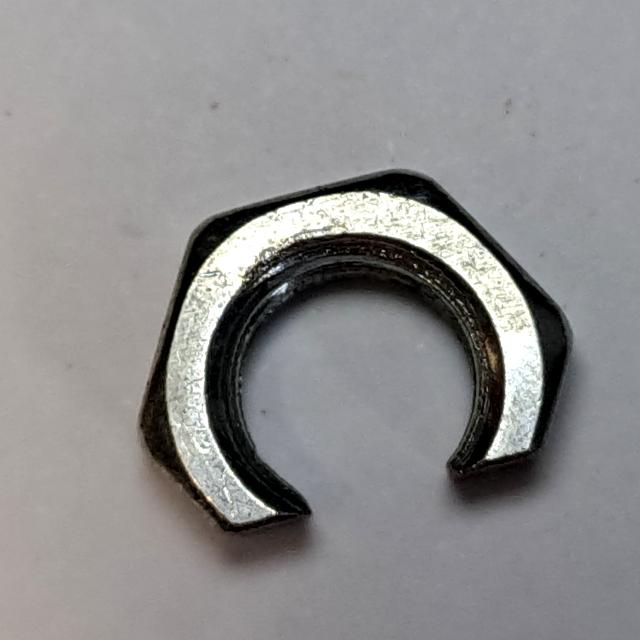Fracture: (123, 158, 589, 548)
